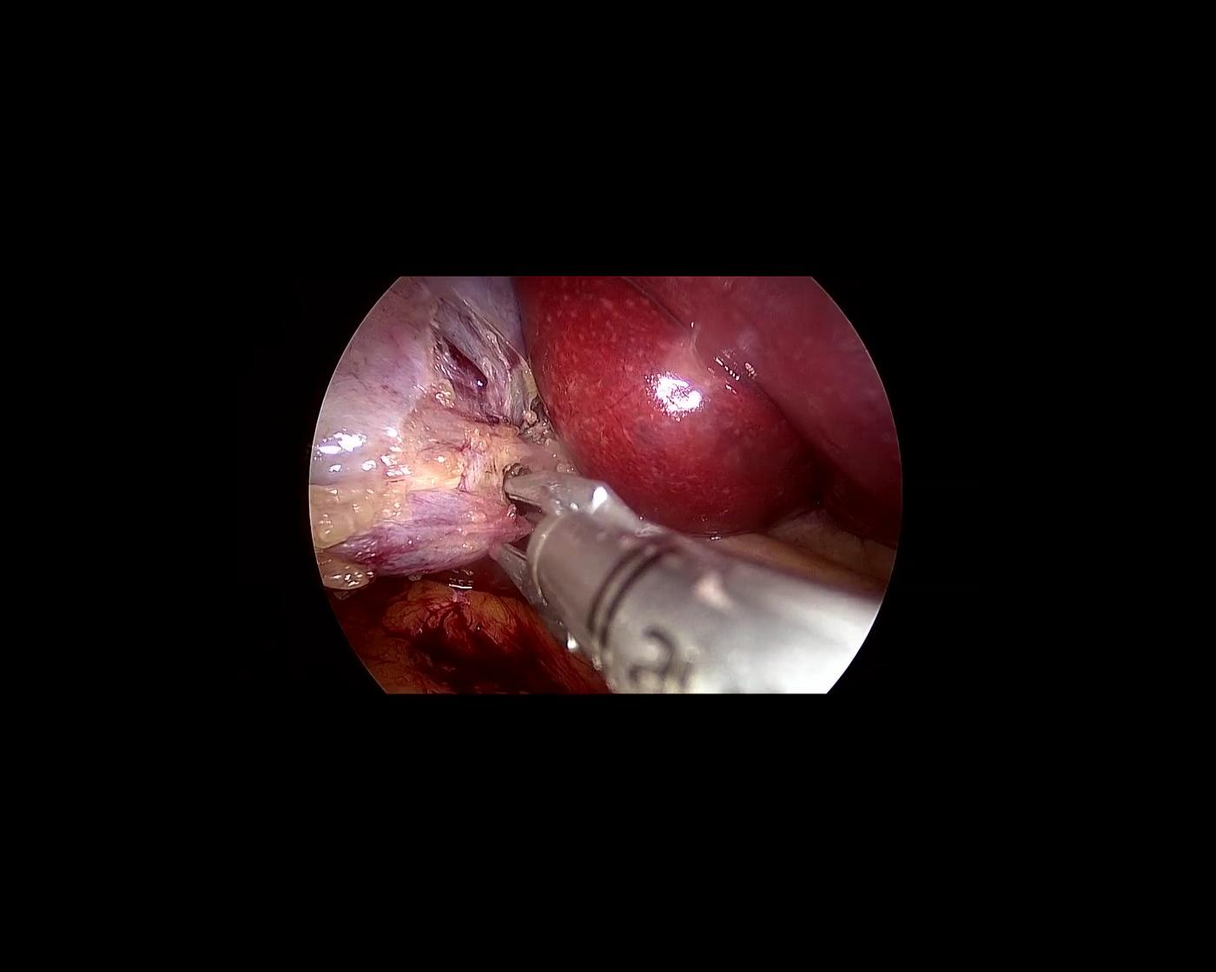Gallbladder: (284, 245, 554, 614)
Liver: (515, 277, 900, 543)
